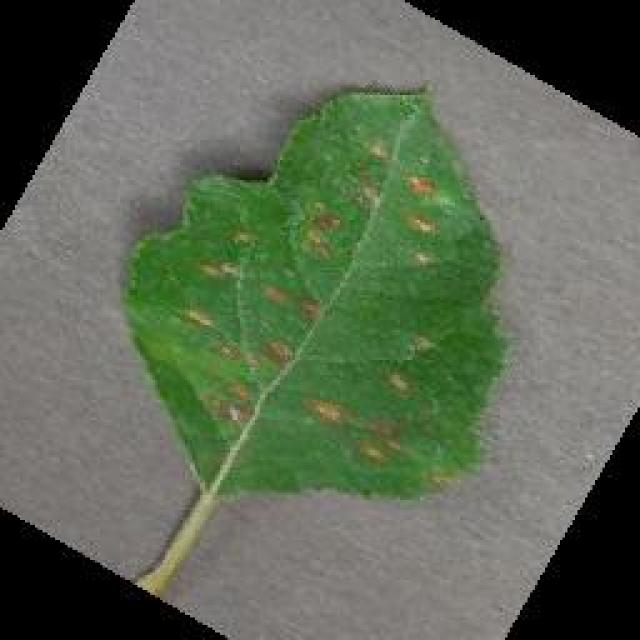apple healthy: (118, 78, 512, 598)
